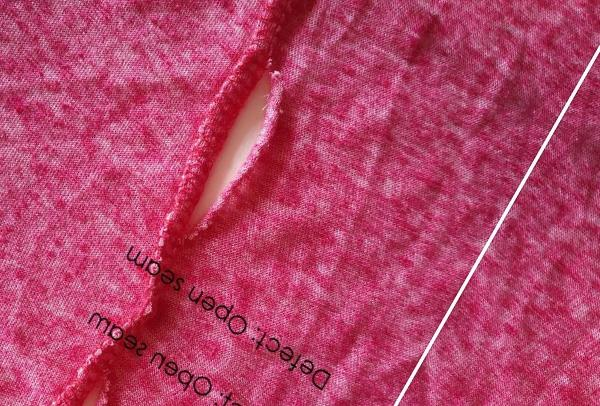hole: (176, 54, 284, 259)
